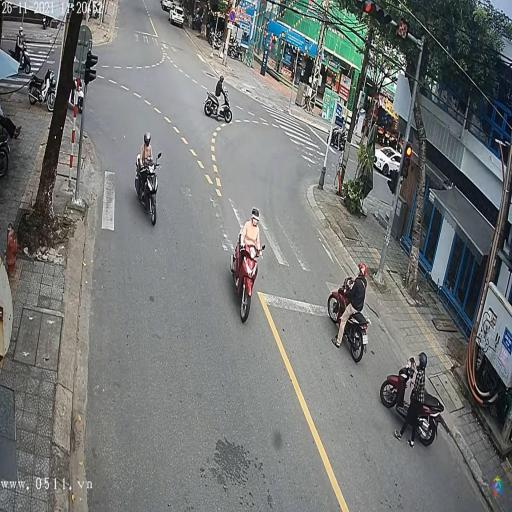car: (160, 0, 174, 11)
motorcycle: (230, 226, 262, 322), (135, 152, 163, 224)
